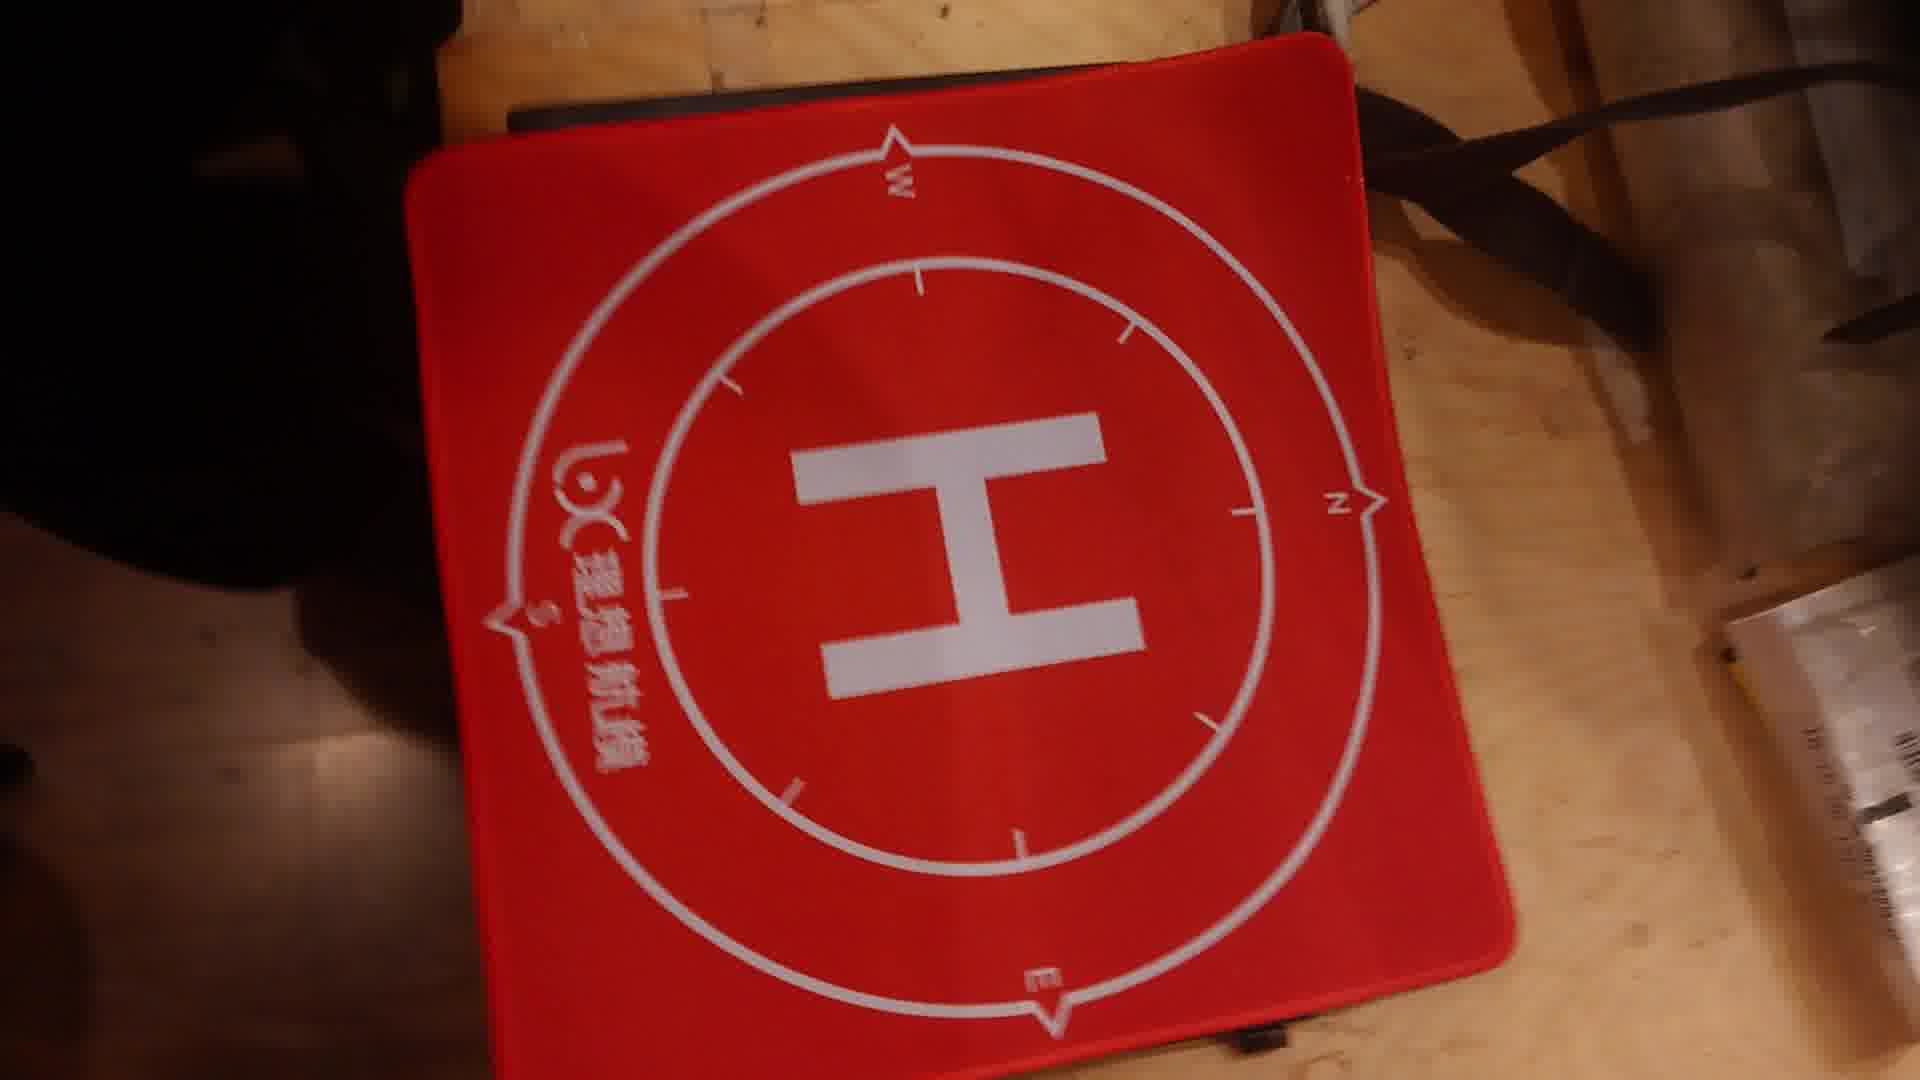H: (793, 407, 1151, 700)
